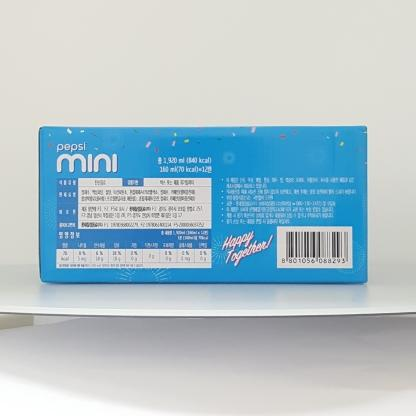-----160ML: (39, 126, 367, 284)
